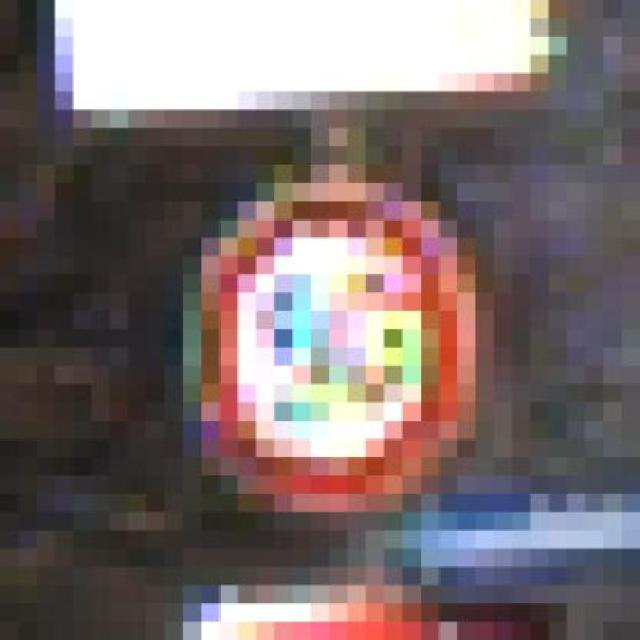50 mph speed limit: (110, 165, 512, 549)
